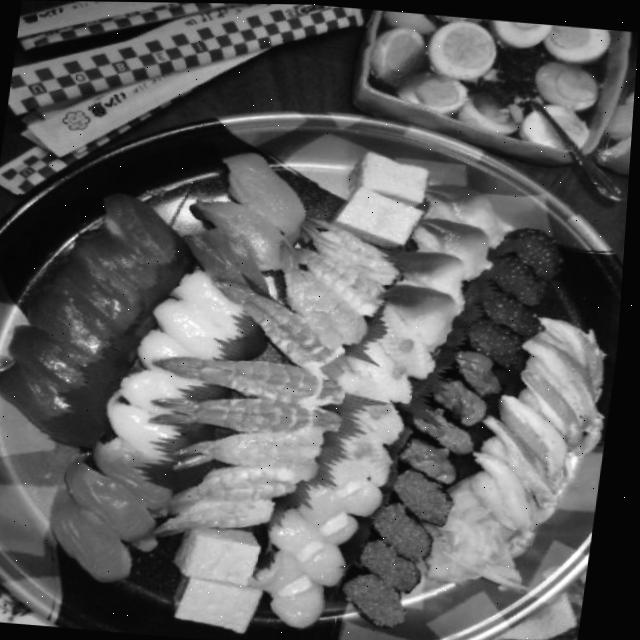寿司卷物: (0, 75, 636, 640)
